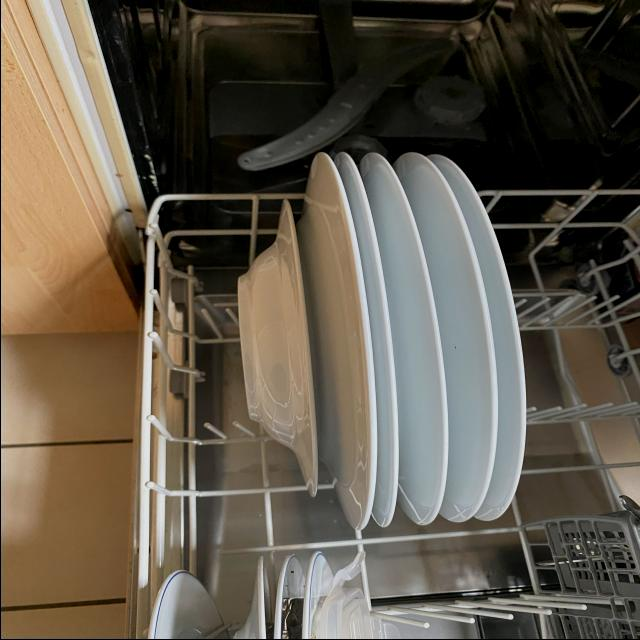empty_slot: (524, 234, 628, 490), (164, 227, 238, 535)
